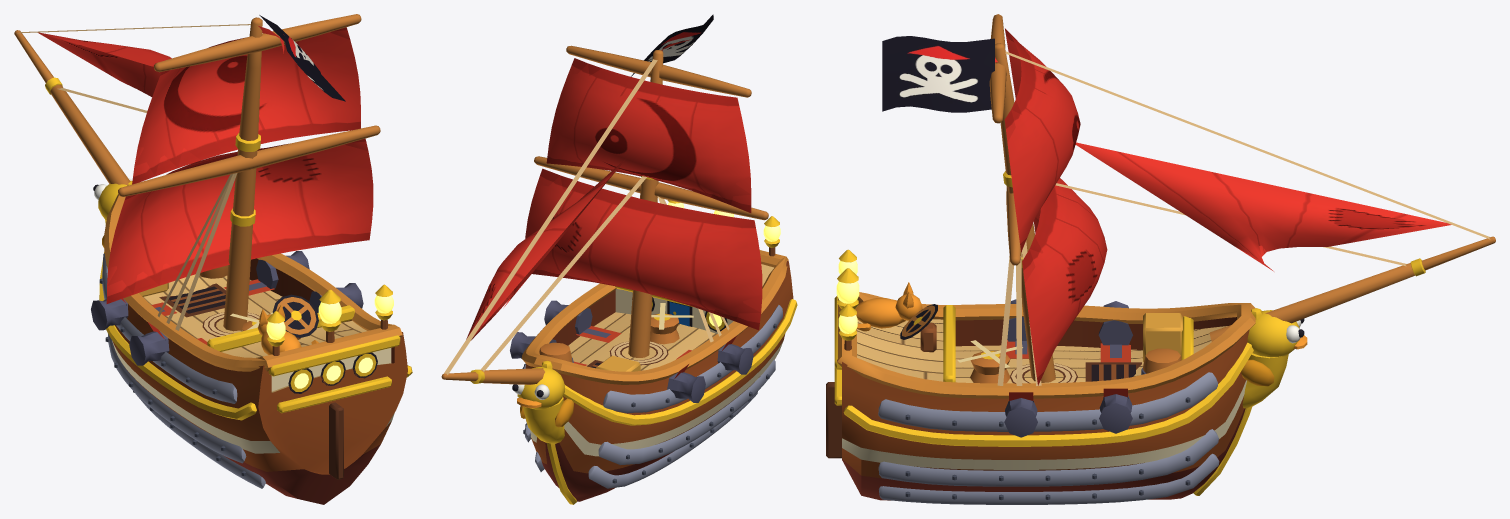
The model's file is player_sloop.glb.
The picture shows the model from 3 angles, left to right: view 1: azimuth 30°, elevation 25°; view 2: azimuth 150°, elevation 25°; view 3: azimuth 270°, elevation 25°; orthographic projection. The views are drawn at different scales.
Visible parts, largest first — view 1: Hull, Sail0_0, Sail0_1, Rigging, Plating3, Jib, Guns3, Plating2, Flag, Plating1, Guns1; view 2: Hull, Sail0_0, Sail0_1, Rigging, Plating3, Jib, Guns3, Plating2, Flag, Plating1, Guns1; view 3: Hull, Jib, Rigging, Plating3, Sail0_0, Sail0_1, Flag, Plating2, Guns3, Plating1, Guns1.
Part boxes in pixels (box(x1,y1,x2,y2)): Hull: box(93, 178, 412, 504); Sail0_0: box(106, 138, 373, 303); Sail0_1: box(132, 27, 360, 184); Rigging: box(14, 14, 380, 331); Plating3: box(99, 253, 265, 488); Jib: box(38, 32, 171, 96); Guns3: box(91, 251, 363, 365); Plating2: box(105, 333, 265, 484); Flag: box(259, 15, 345, 101); Plating1: box(105, 337, 245, 460); Guns1: box(155, 263, 320, 344); Hull: box(512, 200, 797, 504); Sail0_0: box(525, 168, 762, 330); Sail0_1: box(546, 58, 751, 212); Rigging: box(441, 39, 768, 384); Plating3: box(522, 305, 782, 487); Jib: box(466, 160, 624, 340); Guns3: box(510, 300, 753, 402); Plating2: box(523, 360, 775, 488); Flag: box(631, 14, 713, 76); Plating1: box(523, 360, 775, 460); Guns1: box(576, 312, 691, 359); Hull: box(826, 249, 1307, 500); Jib: box(1075, 142, 1451, 271); Rigging: box(989, 14, 1495, 385); Plating3: box(878, 372, 1219, 504); Sail0_0: box(1022, 178, 1107, 385); Sail0_1: box(1004, 28, 1080, 252); Flag: box(882, 36, 994, 112); Plating2: box(878, 432, 1218, 504); Guns3: box(1004, 299, 1132, 437); Plating1: box(879, 429, 1218, 485); Guns1: box(1006, 320, 1128, 358).
Size of the model in its own units: 1.73 by 2.78 by 3.66.
9 materials, 4 textured.
